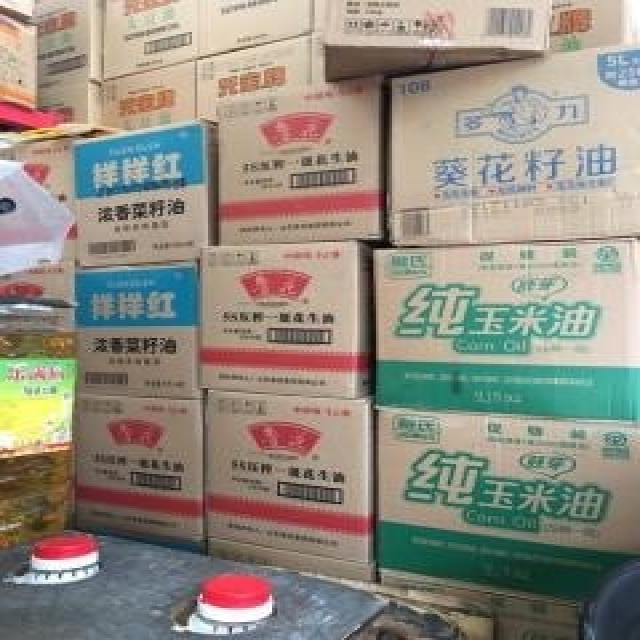box: (377, 408, 637, 605), (389, 44, 637, 244), (374, 244, 637, 423), (205, 390, 377, 589), (221, 75, 390, 246), (198, 241, 377, 397), (0, 123, 133, 307), (75, 394, 206, 551), (80, 121, 222, 264), (77, 259, 201, 402), (377, 579, 586, 637), (196, 36, 310, 122), (100, 2, 198, 78), (100, 61, 197, 130), (197, 1, 314, 57), (39, 2, 102, 84), (548, 3, 637, 54), (0, 10, 38, 107), (36, 75, 100, 124), (0, 0, 39, 22)
